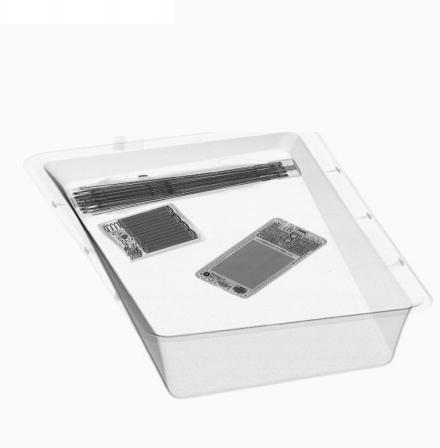Powerbank: (97, 204, 209, 261)
